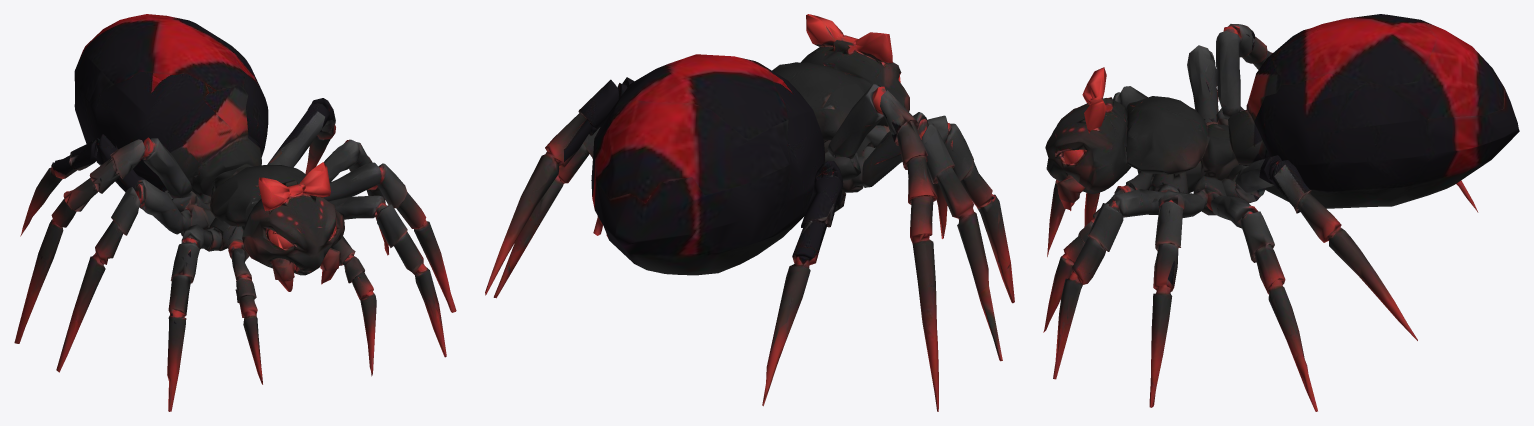
Rendered from boss_widow.glb.
3 views of the same model, side by side, from view 1: azimuth 30°, elevation 25°; view 2: azimuth 150°, elevation 25°; view 3: azimuth 270°, elevation 25° (orthographic). The views are drawn at different scales.
Size of the model in its own units: 1.88 by 1.23 by 1.87.
1 material, 1 textured.
